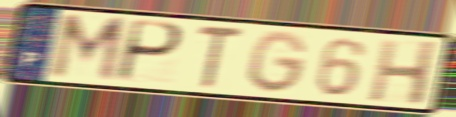6: (315, 36, 368, 98)
G: (246, 29, 311, 96)
H: (366, 38, 441, 108)
M: (46, 12, 130, 86)
P: (113, 18, 186, 85)
T: (195, 22, 246, 90)
